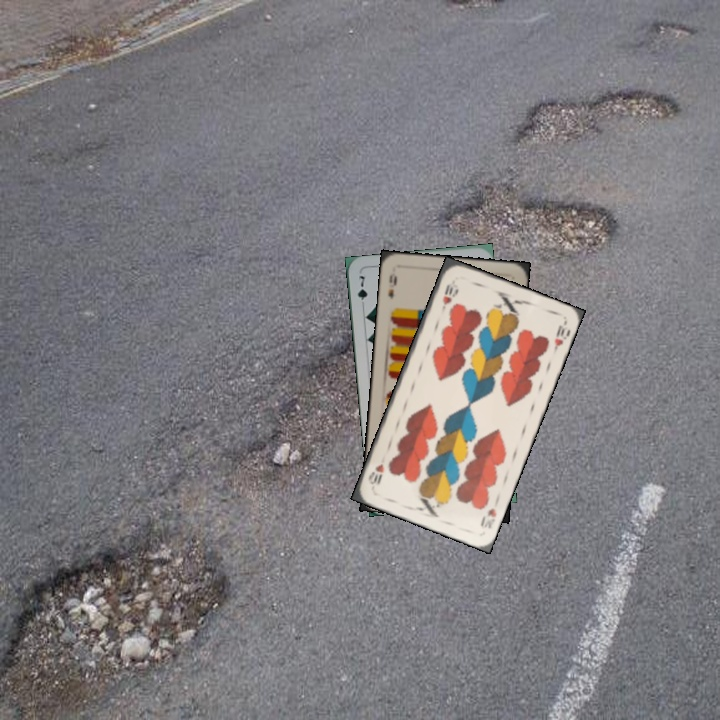E9: (384, 271, 400, 301)
G7: (353, 271, 370, 311)
H10: (437, 280, 456, 315), (476, 504, 499, 531)
